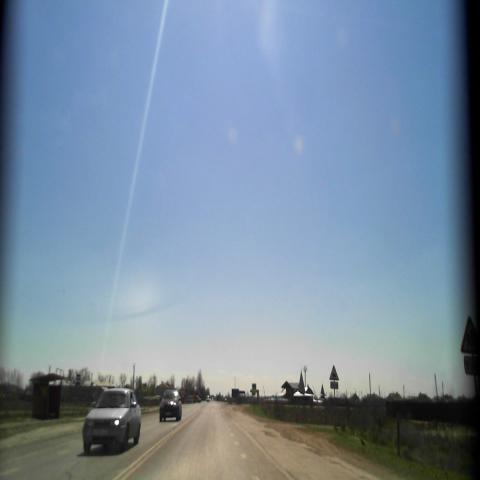1_26: (329, 360, 339, 380)
